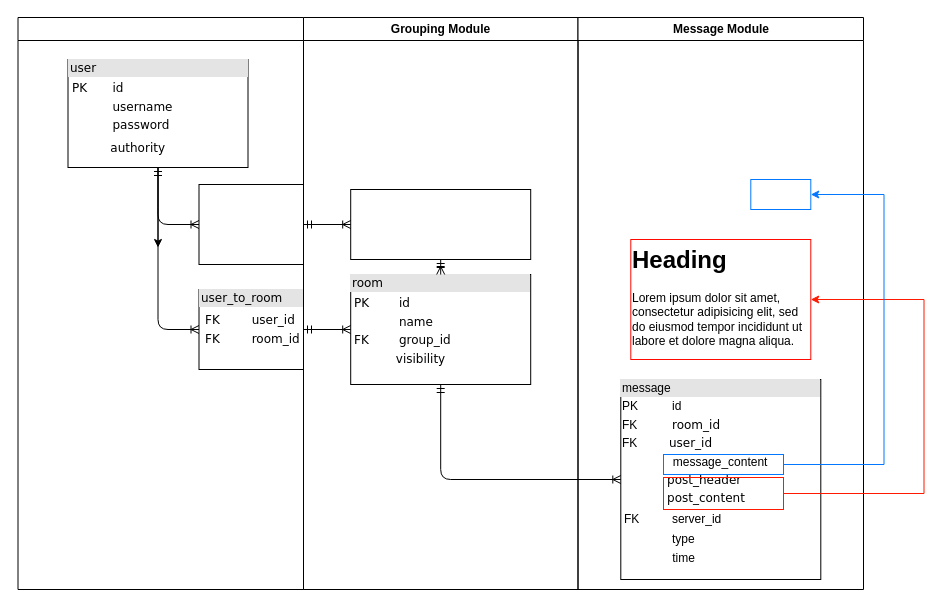
Image size: 949x607. Some labels were removed from this diagram. Here are the shapes that lost their labels. From the top down, the box of each, then its label:
(750, 178, 811, 210): Text
(198, 184, 304, 264): user_to_group FK user_id FK group_id
(350, 188, 531, 260): group PK id name
(17, 16, 304, 590): JWT Login Module
